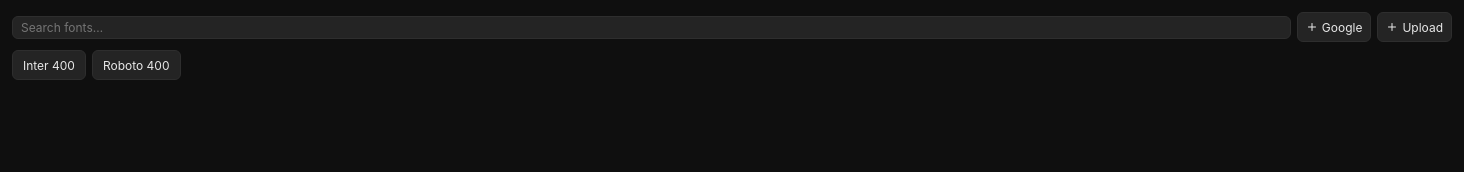
Test: fontSelector component › filters font list by search query
The image size is (1464, 172).
Type "inter" into the field with test id "font-selector-search". click: (651,27)
box: [12,16,1291,38]
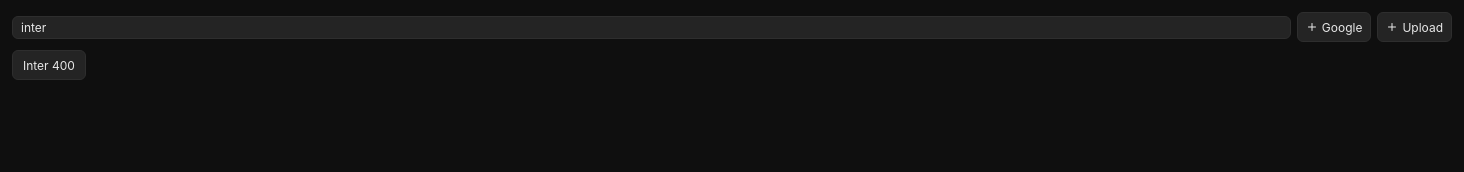
Expected: the button with test id "font-toggle-f1" is shown, [12,50,86,80]
Expected: the button with test id "font-toggle-f2" is gone
